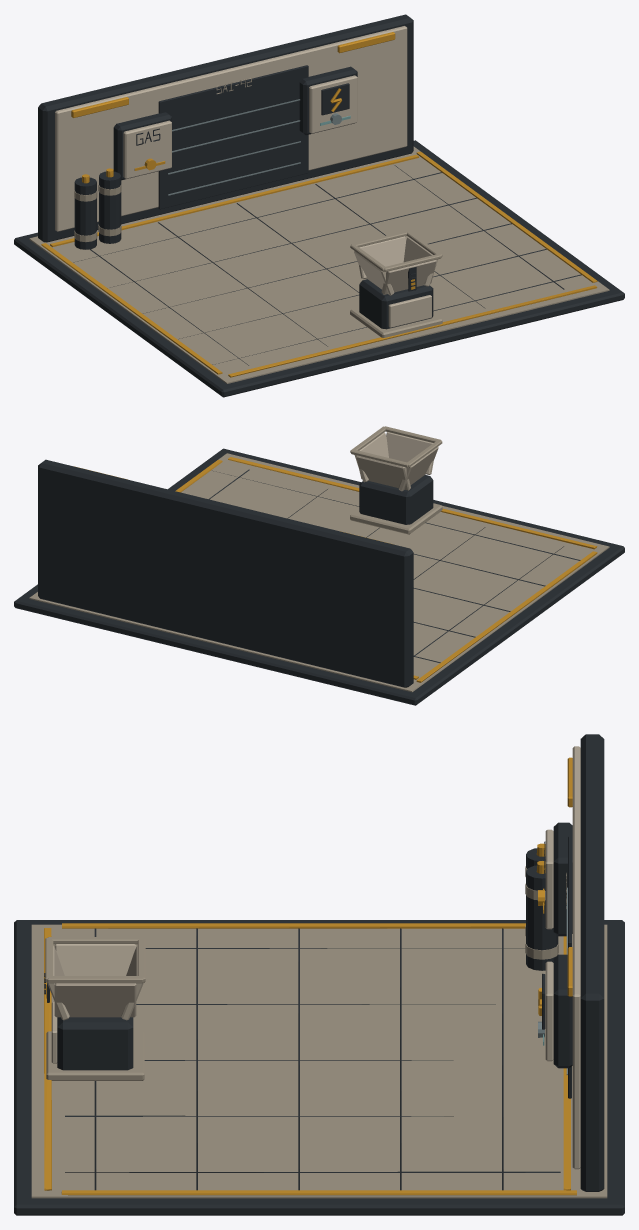
Rendered from sai92_bay_d0_lod2.glb.
3 renders of one model, top to bottom at view 1: azimuth 30°, elevation 25°; view 2: azimuth 150°, elevation 25°; view 3: azimuth 270°, elevation 25°, orthographic. The views are drawn at different scales.
Visible parts, largest first — view 1: SAI92_BAY_STATIC_SURFACE; view 2: SAI92_BAY_STATIC_SURFACE; view 3: SAI92_BAY_STATIC_SURFACE.
Part boxes in pixels (x1,y1,x2,y2): SAI92_BAY_STATIC_SURFACE: (14,14,624,397); SAI92_BAY_STATIC_SURFACE: (14,426,624,705); SAI92_BAY_STATIC_SURFACE: (14,734,624,1215).
Size of the model in its own units: 10 by 3.4 by 9.
